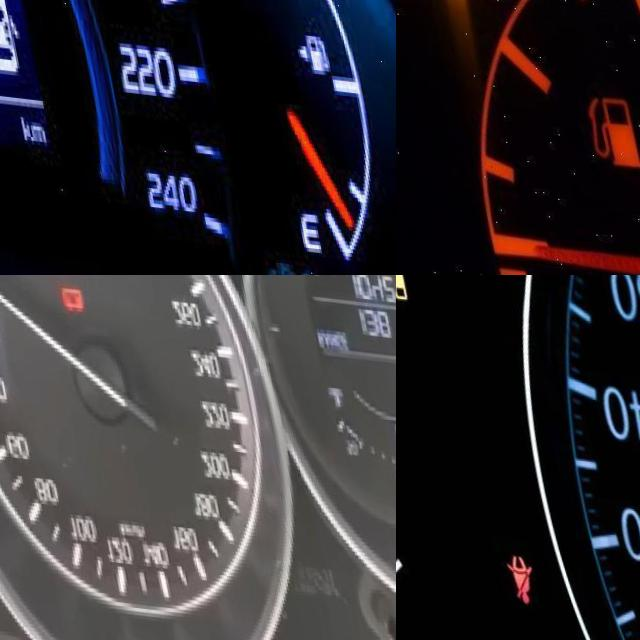Seat Belt: (489, 544, 524, 593)
